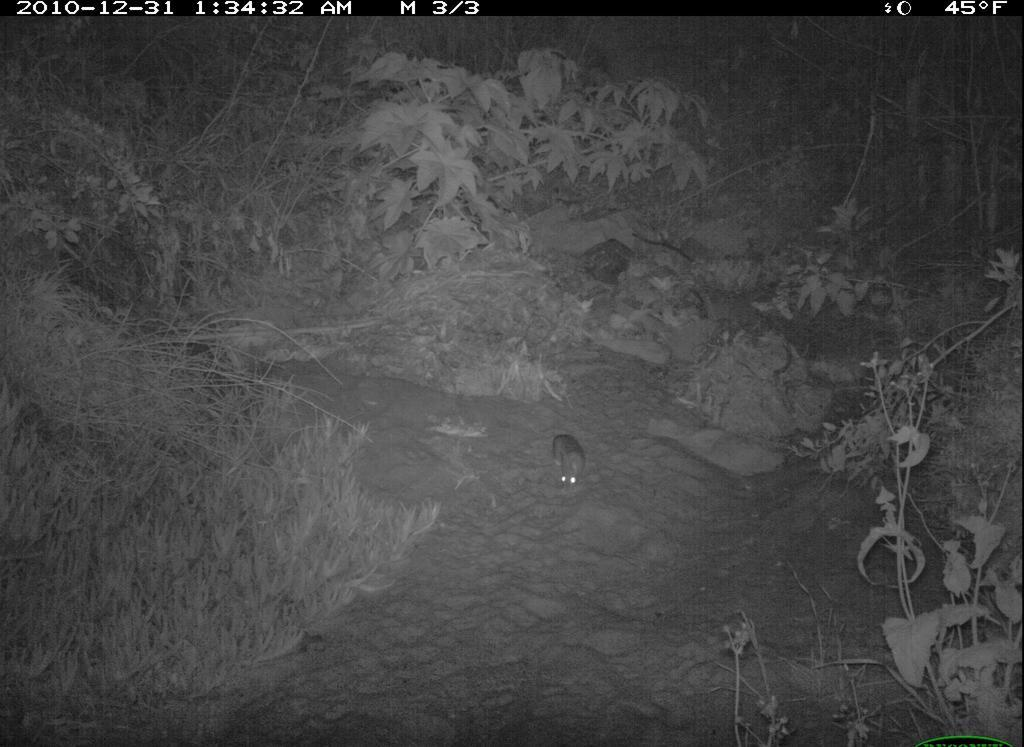rabbit: (543, 425, 598, 493)
